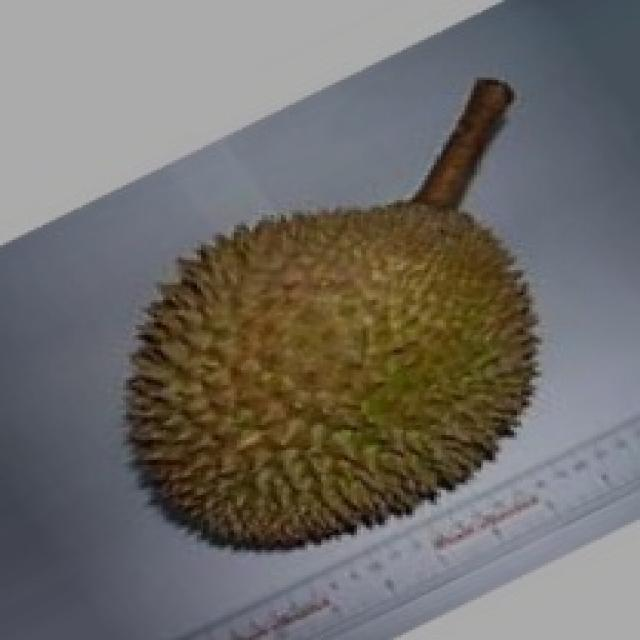fruit: (86, 185, 449, 587)
